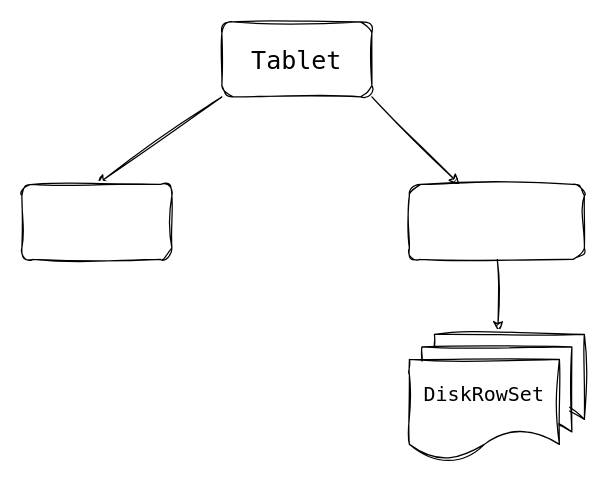
This 606x481 diagram has some shape labels left out. Here are the shapes that lost their labels. From the top down, the centre of each, then its label:
At (x=96, y=221): "MemRowSet".
At (x=496, y=221): "DiskRowSets".
